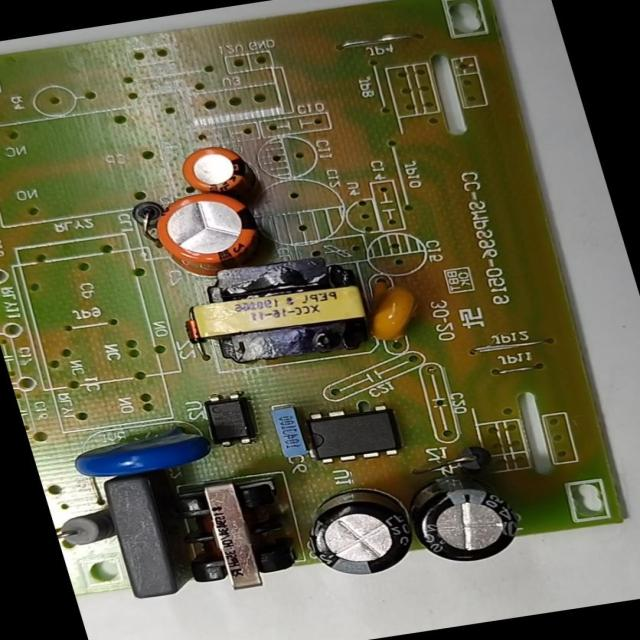Cap1: (134, 183, 284, 288)
Cap2: (170, 136, 268, 204)
Cap3: (296, 477, 431, 594)
Cap4: (392, 453, 536, 574)
MOSFET: (294, 398, 414, 476)
Mov: (62, 416, 220, 486)
Resistor: (53, 511, 118, 557)
Transformer: (174, 249, 390, 380), (161, 472, 314, 608)
